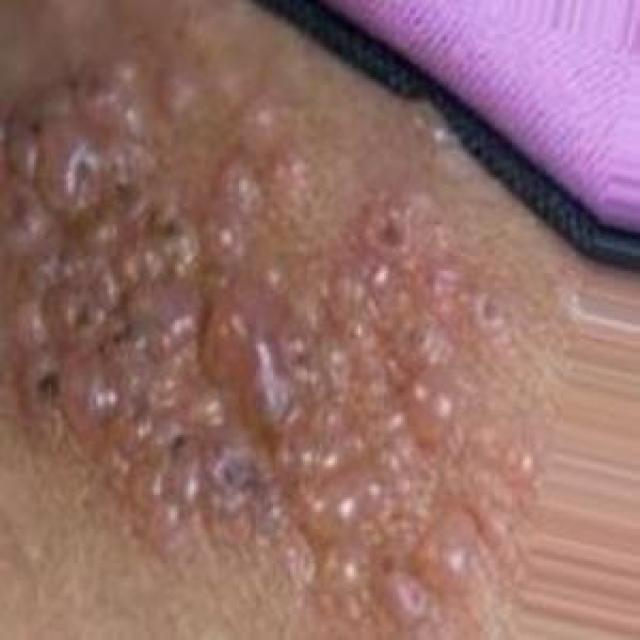Shingles: (0, 40, 492, 619)
